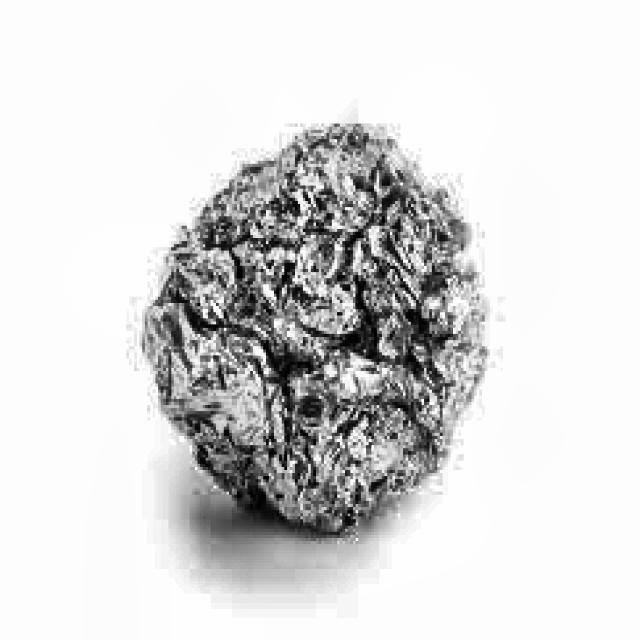Foil: (126, 107, 505, 555)
